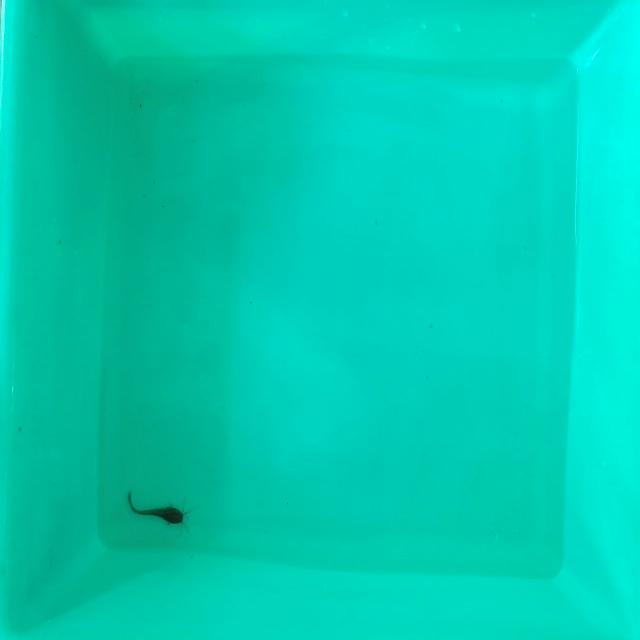lele: (120, 492, 190, 531)
